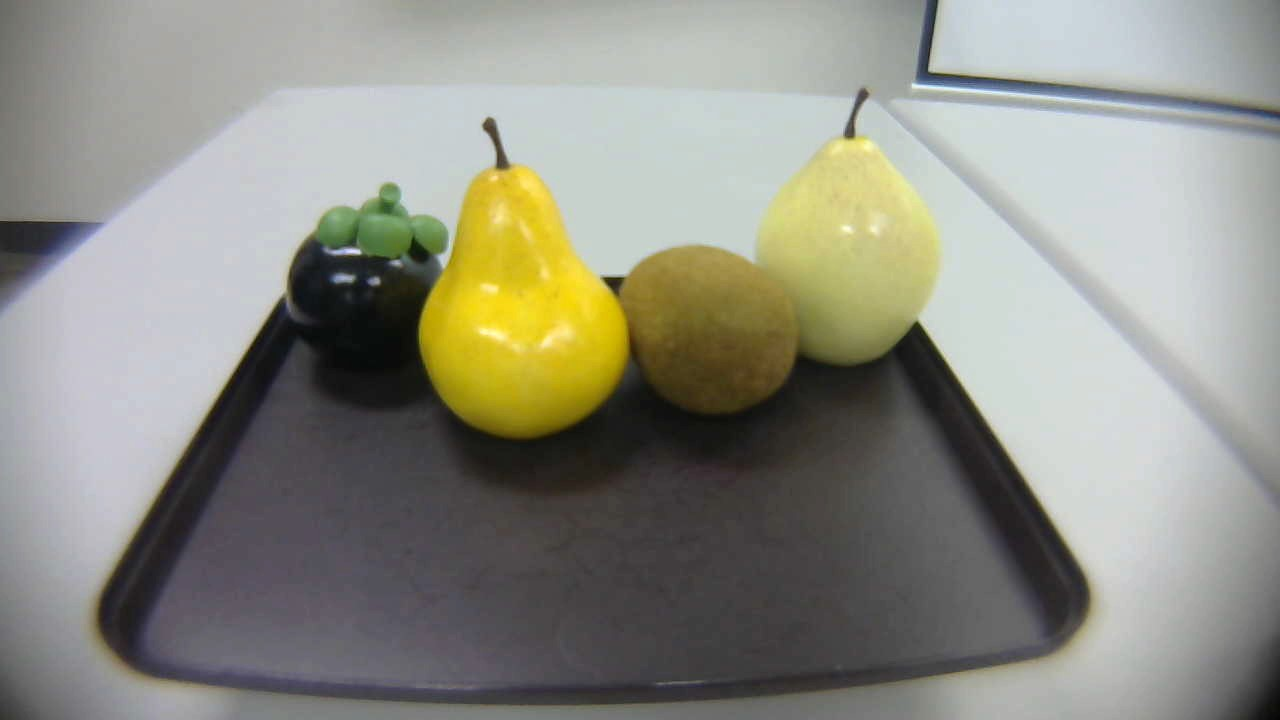kiwi fruit: (605, 237, 803, 416)
mangosteen: (273, 184, 450, 363)
western pear: (758, 83, 943, 379)
yellow pear: (413, 118, 635, 449)
